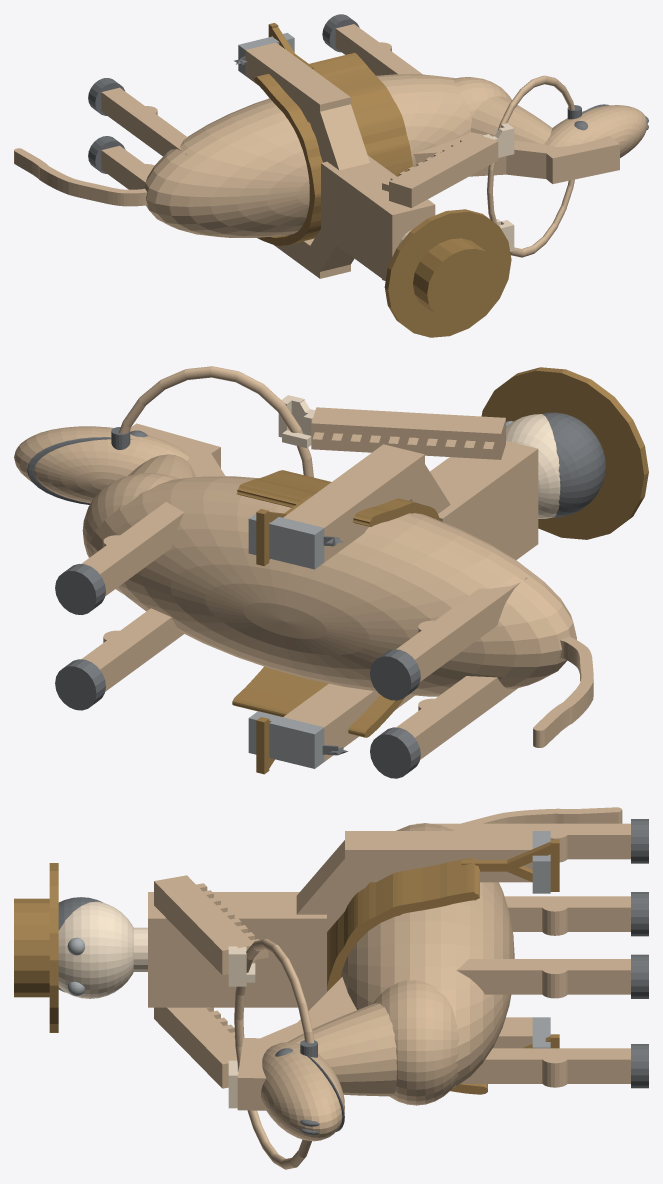
Rendered from cow-boy.gltf.
The picture shows the model from 3 angles, top to bottom: view 1: azimuth 30°, elevation 25°; view 2: azimuth 150°, elevation 25°; view 3: azimuth 270°, elevation 25°; orthographic projection. The views are drawn at different scales.
Visible parts, largest first — view 1: group_0_11107152, group_0_6306067, group_0_2829873, group_0_14860437, group_0_6383466; view 2: group_0_11107152, group_0_6306067, group_0_2829873, group_0_6383466, group_0_14860437; view 3: group_0_11107152, group_0_6306067, group_0_14860437, group_0_2829873, group_0_6383466.
Boxes of the visible parts, bbox=[...] form: group_0_11107152: bbox=[14, 24, 647, 280]; group_0_6306067: bbox=[254, 23, 511, 337]; group_0_2829873: bbox=[88, 14, 648, 173]; group_0_14860437: bbox=[399, 123, 514, 251]; group_0_6383466: bbox=[238, 33, 294, 75]; group_0_11107152: bbox=[14, 366, 593, 761]; group_0_6306067: bbox=[232, 367, 648, 774]; group_0_2829873: bbox=[27, 412, 605, 778]; group_0_6383466: bbox=[248, 421, 513, 768]; group_0_14860437: bbox=[278, 395, 560, 518]; group_0_11107152: bbox=[148, 807, 630, 1169]; group_0_6306067: bbox=[14, 839, 559, 1094]; group_0_14860437: bbox=[58, 901, 255, 1108]; group_0_2829873: bbox=[58, 819, 648, 1134]; group_0_6383466: bbox=[67, 831, 550, 1048].
Bounding box in the file's own units: 83 × 30 × 71.
